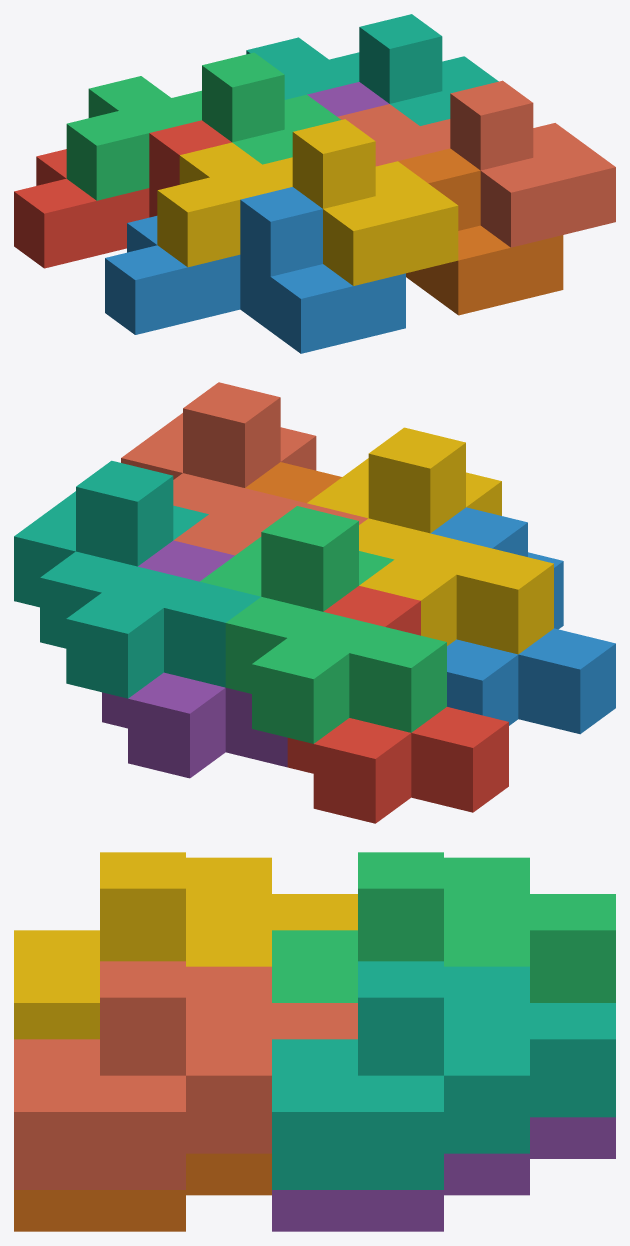
The model's file is tiling.obj.
The picture shows the model from 3 angles, top to bottom: view 1: azimuth 30°, elevation 25°; view 2: azimuth 150°, elevation 25°; view 3: azimuth 270°, elevation 25°; orthographic projection. The views are drawn at different scales.
Parts seen in each view (by area): view 1: copy_1_domain_4, copy_1_domain_2, copy_1_domain_8, copy_1_domain_3, copy_1_domain_7, copy_1_domain_1, copy_1_domain_6, copy_1_domain_5; view 2: copy_1_domain_3, copy_1_domain_7, copy_1_domain_4, copy_1_domain_1, copy_1_domain_8, copy_1_domain_2, copy_1_domain_5, copy_1_domain_6; view 3: copy_1_domain_7, copy_1_domain_8, copy_1_domain_3, copy_1_domain_4, copy_1_domain_5, copy_1_domain_6.
Part boxes in pixels (x1,y1,x2,y2): copy_1_domain_4: (157, 119, 458, 285); copy_1_domain_2: (105, 187, 405, 353); copy_1_domain_8: (337, 80, 615, 247); copy_1_domain_3: (66, 52, 340, 200); copy_1_domain_7: (246, 14, 498, 125); copy_1_domain_1: (14, 120, 231, 268); copy_1_domain_6: (398, 148, 563, 315); copy_1_domain_5: (307, 82, 388, 116); copy_1_domain_3: (200, 506, 446, 743); copy_1_domain_7: (14, 460, 260, 698); copy_1_domain_4: (307, 427, 553, 654); copy_1_domain_1: (287, 586, 508, 823); copy_1_domain_8: (121, 382, 367, 555); copy_1_domain_2: (430, 507, 615, 734); copy_1_domain_5: (102, 540, 287, 778); copy_1_domain_6: (245, 462, 341, 503); copy_1_domain_7: (272, 961, 615, 1189); copy_1_domain_8: (14, 961, 357, 1189); copy_1_domain_3: (272, 852, 615, 1002); copy_1_domain_4: (14, 852, 357, 1039); copy_1_domain_5: (272, 1117, 615, 1231); copy_1_domain_6: (14, 1153, 271, 1231).
Bounding box in the file's own units: 8 × 3 × 7.
